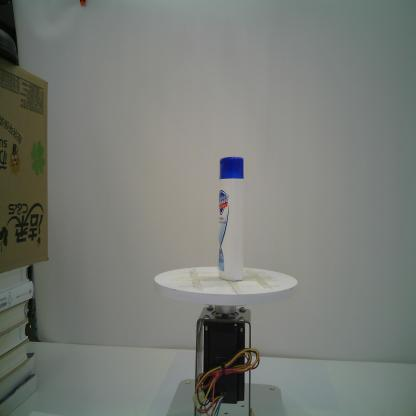Personal Hygiene: (217, 156, 245, 283)
